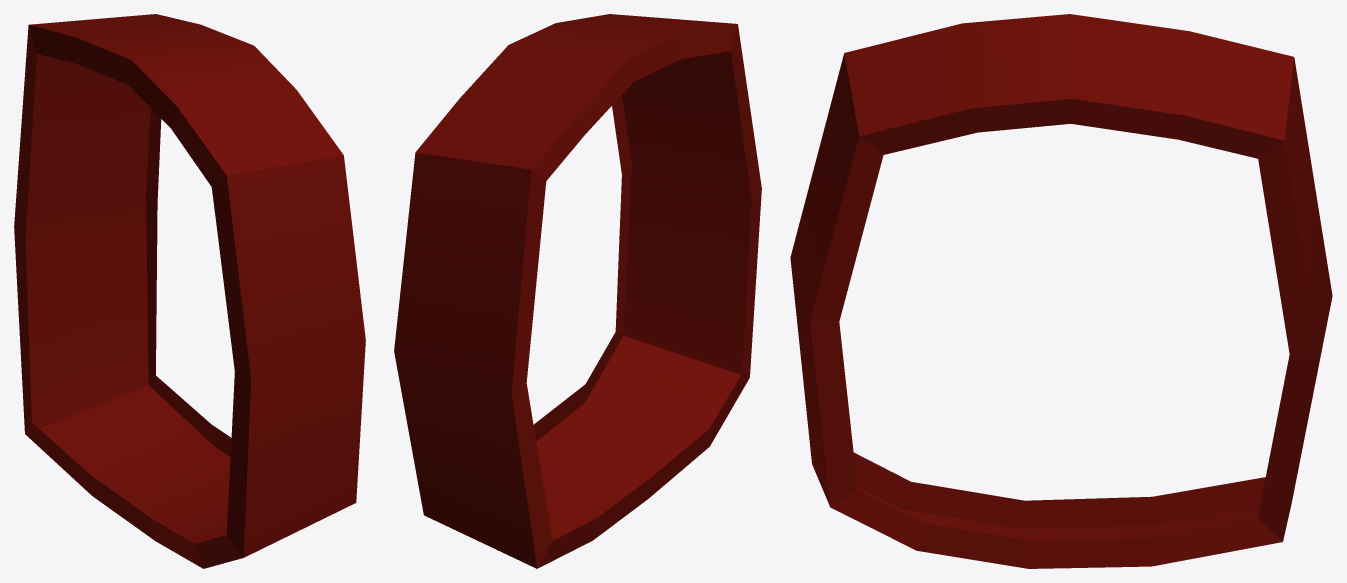
Rendered from CINTA.fbx.
3 renders of one model, left to right at view 1: azimuth 30°, elevation 25°; view 2: azimuth 150°, elevation 25°; view 3: azimuth 270°, elevation 25°, orthographic. The views are drawn at different scales.
Visible parts, largest first — view 1: CINTA; view 2: CINTA; view 3: CINTA.
Part boxes in pixels (x1=…): CINTA: x1=14, y1=14, x2=365, y2=568; CINTA: x1=394, y1=14, x2=761, y2=568; CINTA: x1=790, y1=14, x2=1332, y2=568.
Size of the model in its own units: 0.0301 by 0.0964 by 0.0922.
